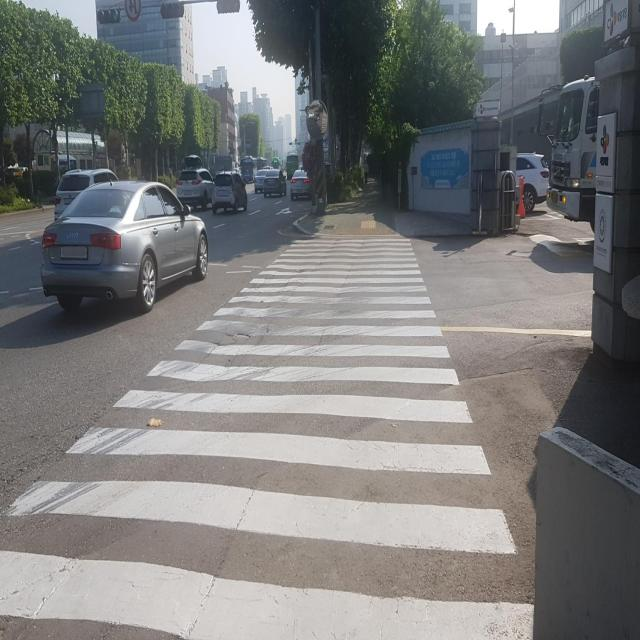횡단보도: (0, 236, 536, 639)
